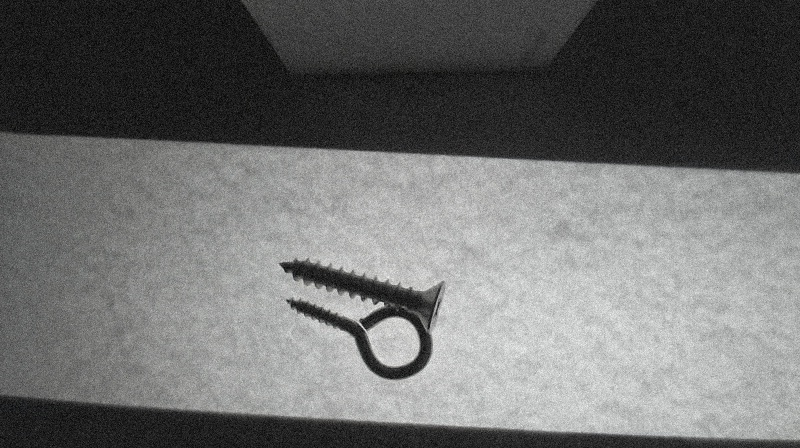O001: (284, 295, 439, 381)
S001: (277, 259, 444, 332)
